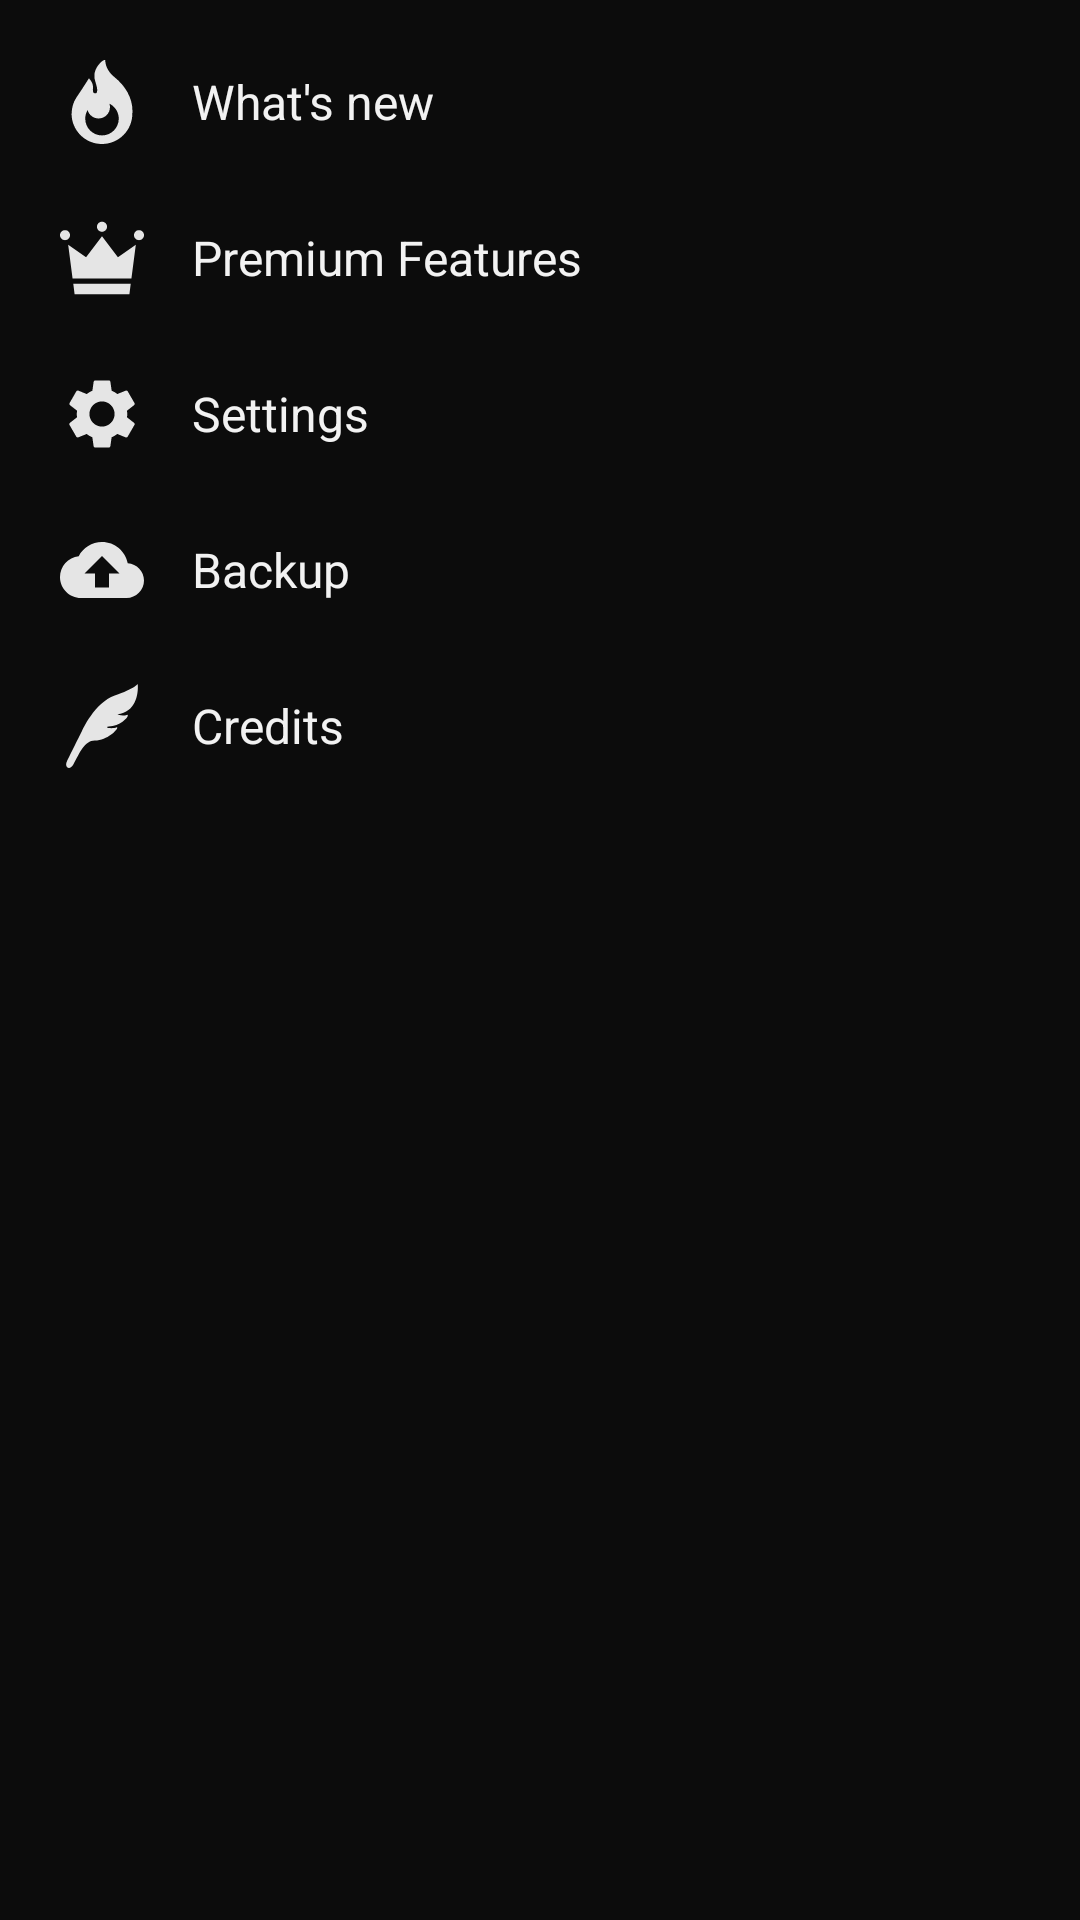

Named icons in this screenshot (1080px x 1920px) and their centers, (x,y):
crown: (102,258)
feather: (102,726)
fire: (102,102)
